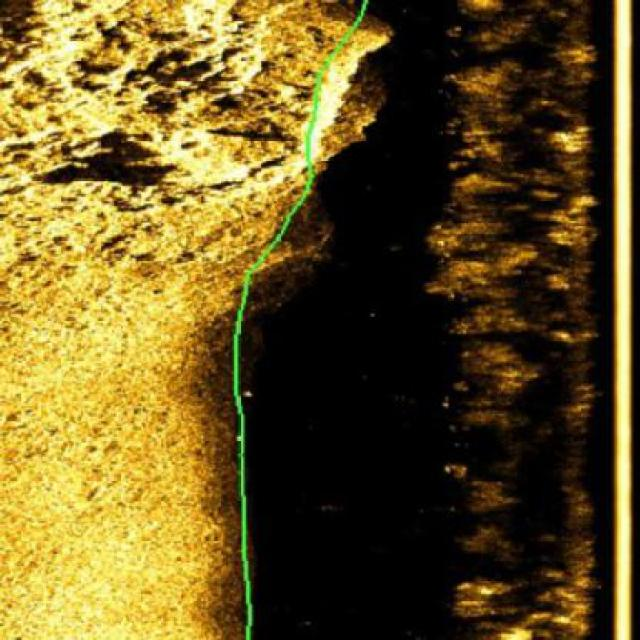bedrock group: (0, 0, 397, 274)
